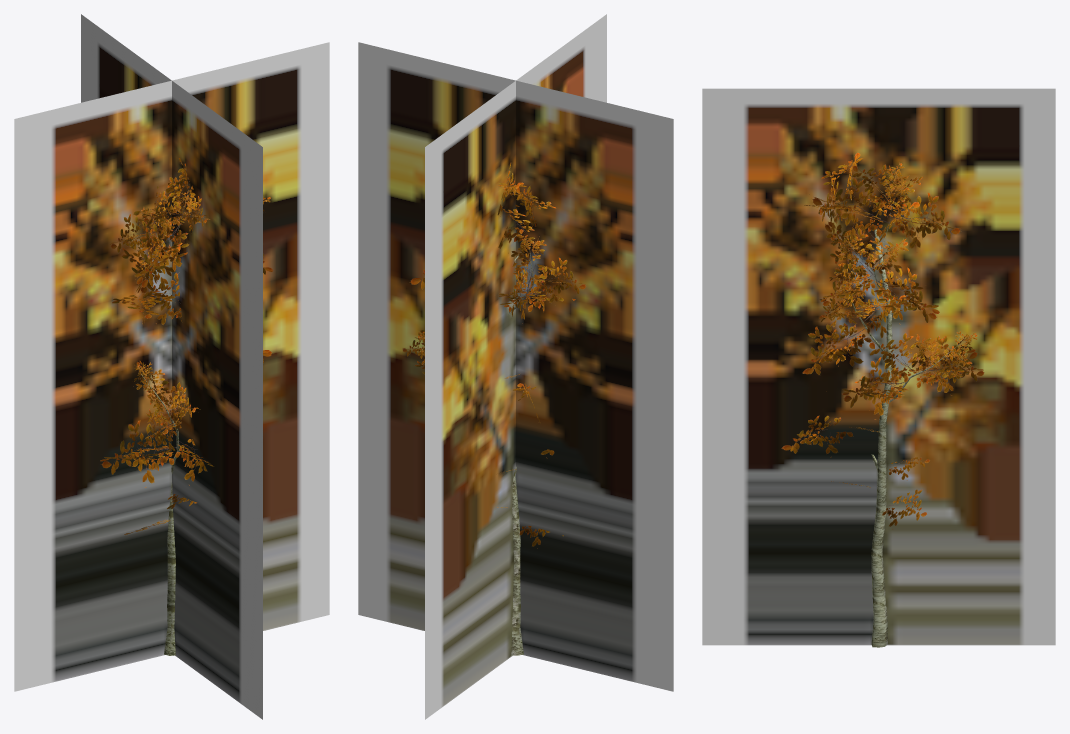
Rendered from Tree-Beech3B.fbx.
3 views of the same model, side by side, from view 1: azimuth 30°, elevation 25°; view 2: azimuth 150°, elevation 25°; view 3: azimuth 270°, elevation 25° (orthographic). The views are drawn at different scales.
Visible parts, largest first — view 1: Billboard-BeechB, Tree-Beech3B_LOD0; view 2: Billboard-BeechB, Tree-Beech3B_LOD0; view 3: Billboard-BeechB, Tree-Beech3B_LOD0.
Part boxes in pixels (left/top/right/bottom): Billboard-BeechB: left=14, top=14, right=329, bottom=719; Tree-Beech3B_LOD0: left=100, top=158, right=273, bottom=655; Billboard-BeechB: left=358, top=14, right=673, bottom=719; Tree-Beech3B_LOD0: left=402, top=163, right=586, bottom=655; Billboard-BeechB: left=702, top=88, right=1055, bottom=645; Tree-Beech3B_LOD0: left=781, top=152, right=984, bottom=647.
Size of what is drawn, in the model's own units: 946 by 1642 by 946.
